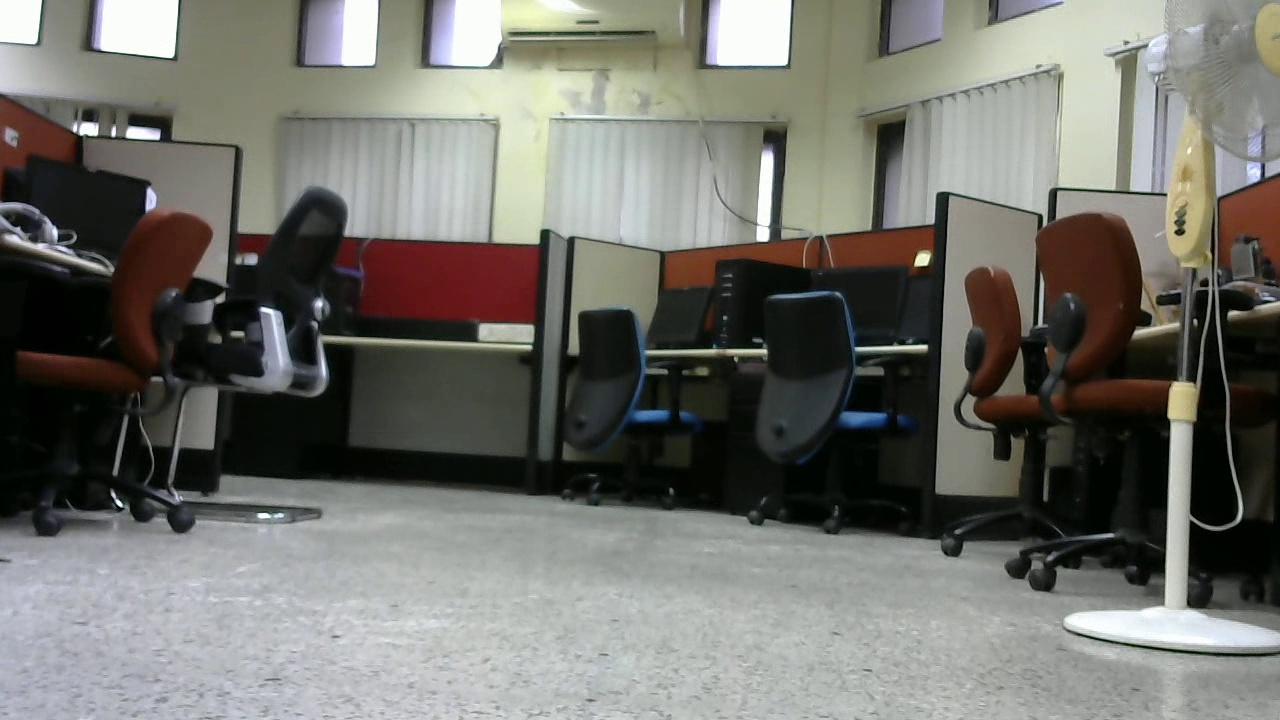chair: (1023, 214, 1215, 591), (1, 204, 189, 529), (935, 268, 1097, 564), (211, 186, 354, 517), (744, 286, 918, 531), (548, 306, 708, 513)
